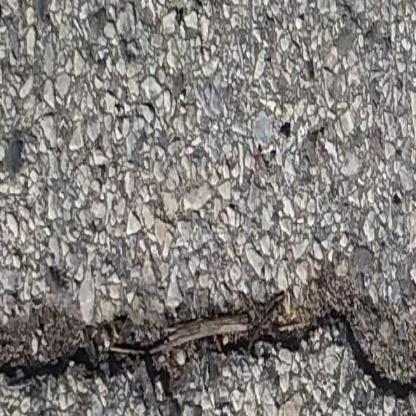Cracks: (0, 262, 416, 416)
